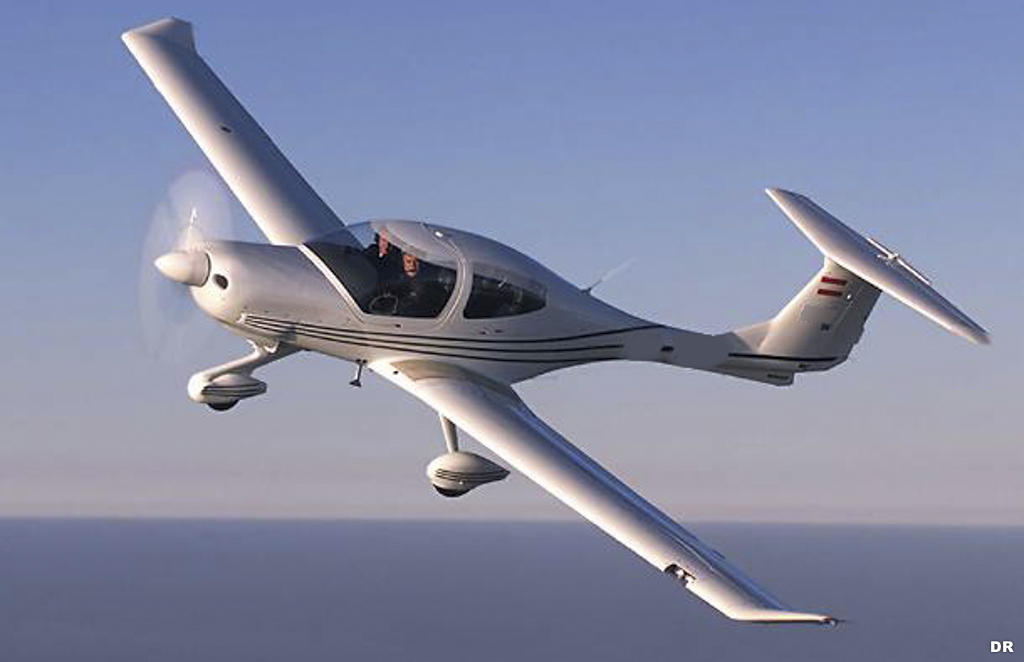Aeronef_de_loisir: (109, 10, 1004, 642)
